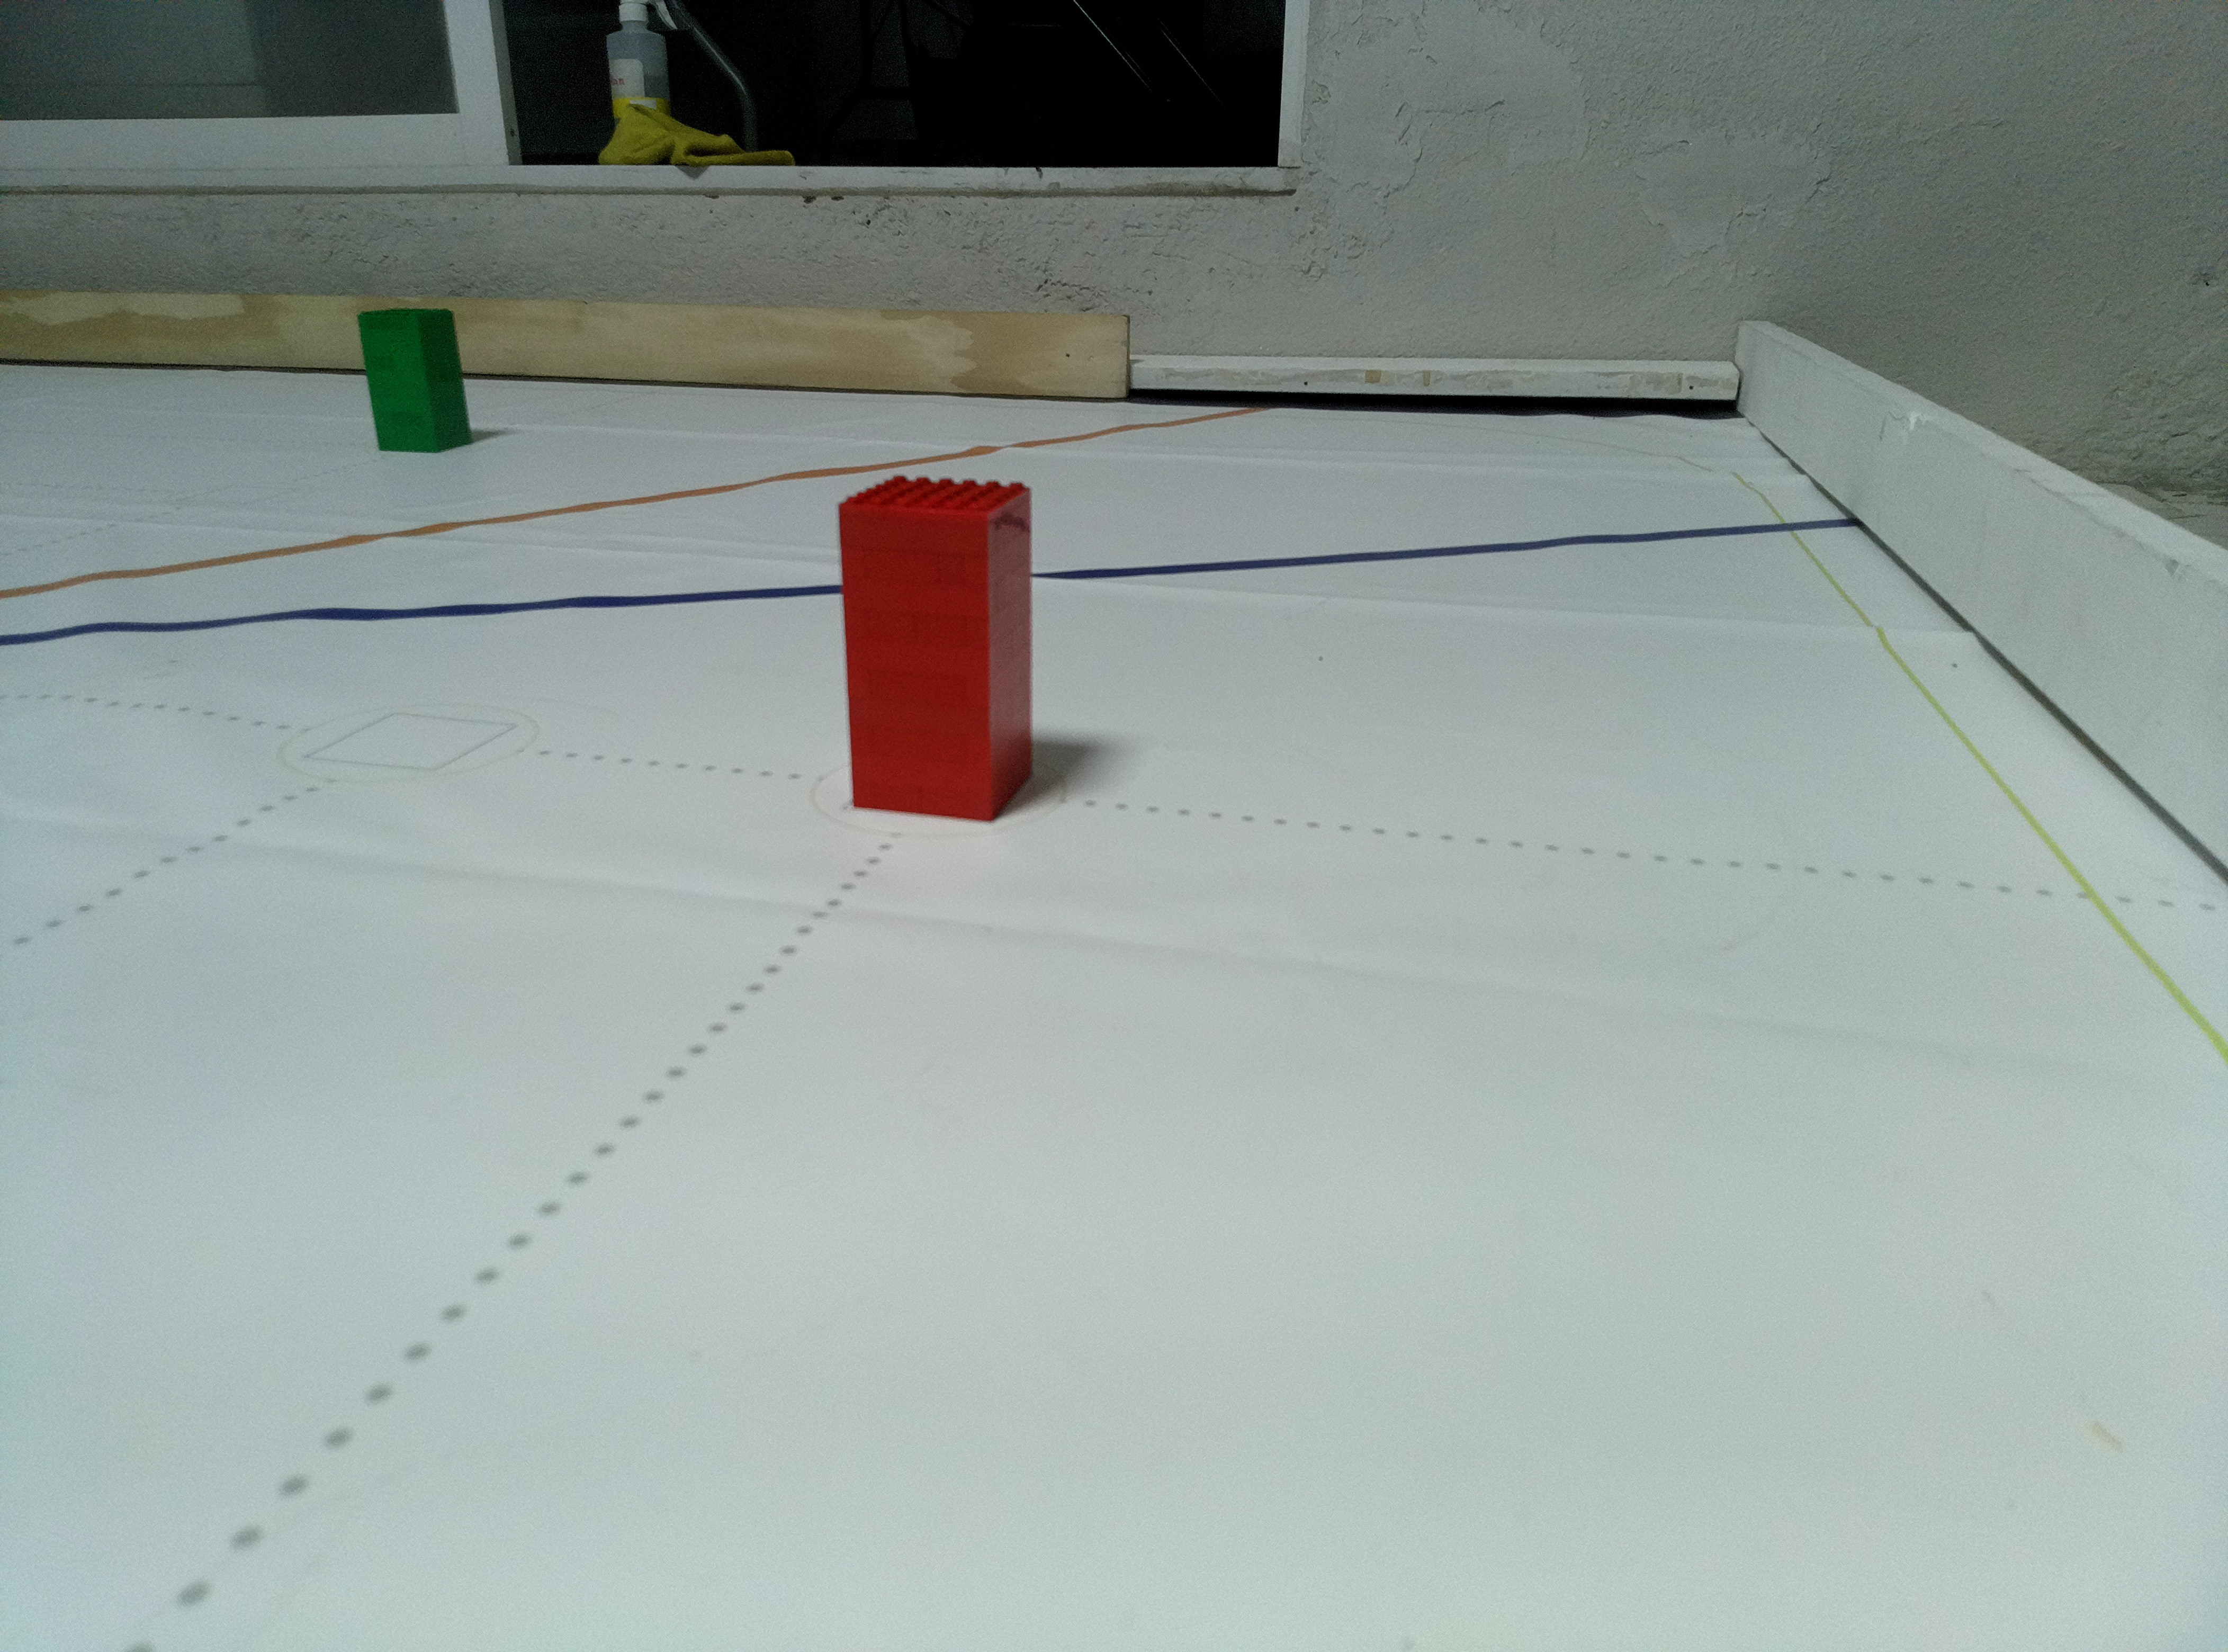greenbox: (356, 309, 474, 456)
redbox: (833, 472, 1039, 828)
